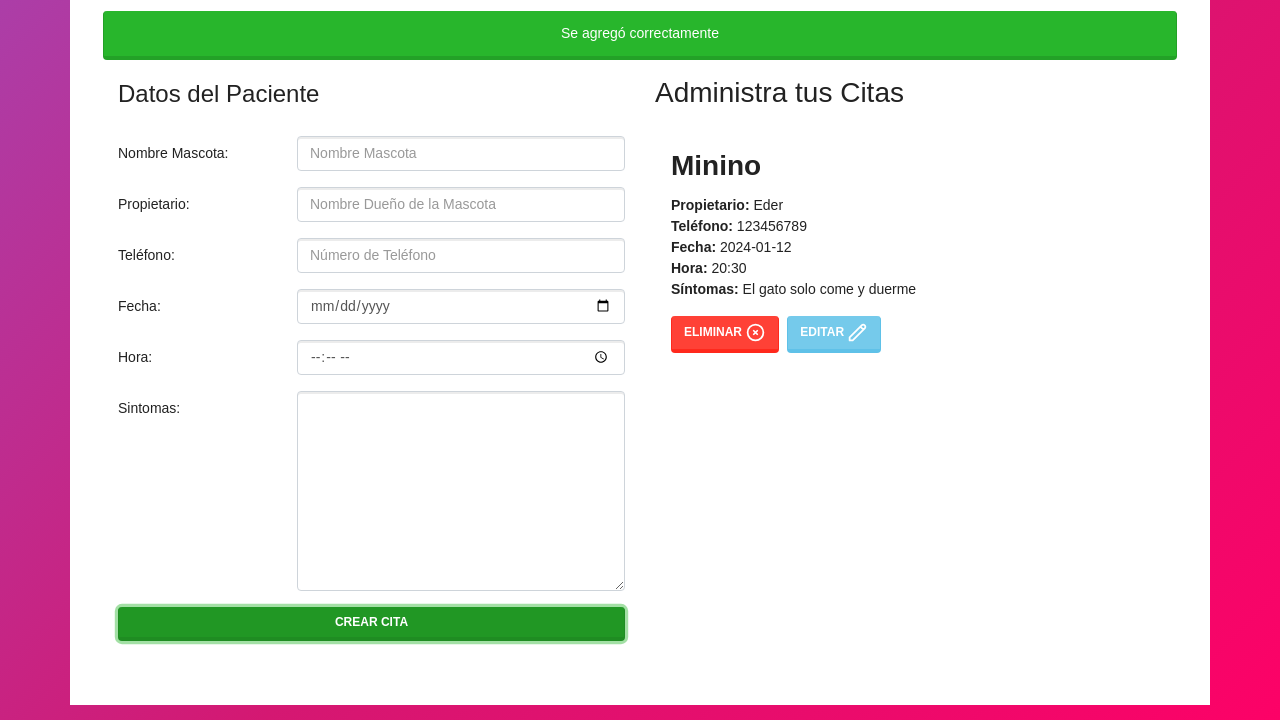
Test: Llenar los campos para una nueva cita y la elimina › Eliminar una cita
(page scrolled)
Click the button with test id "btn-eliminar" at [725, 335], box x1=671 y1=316 x2=779 y2=353
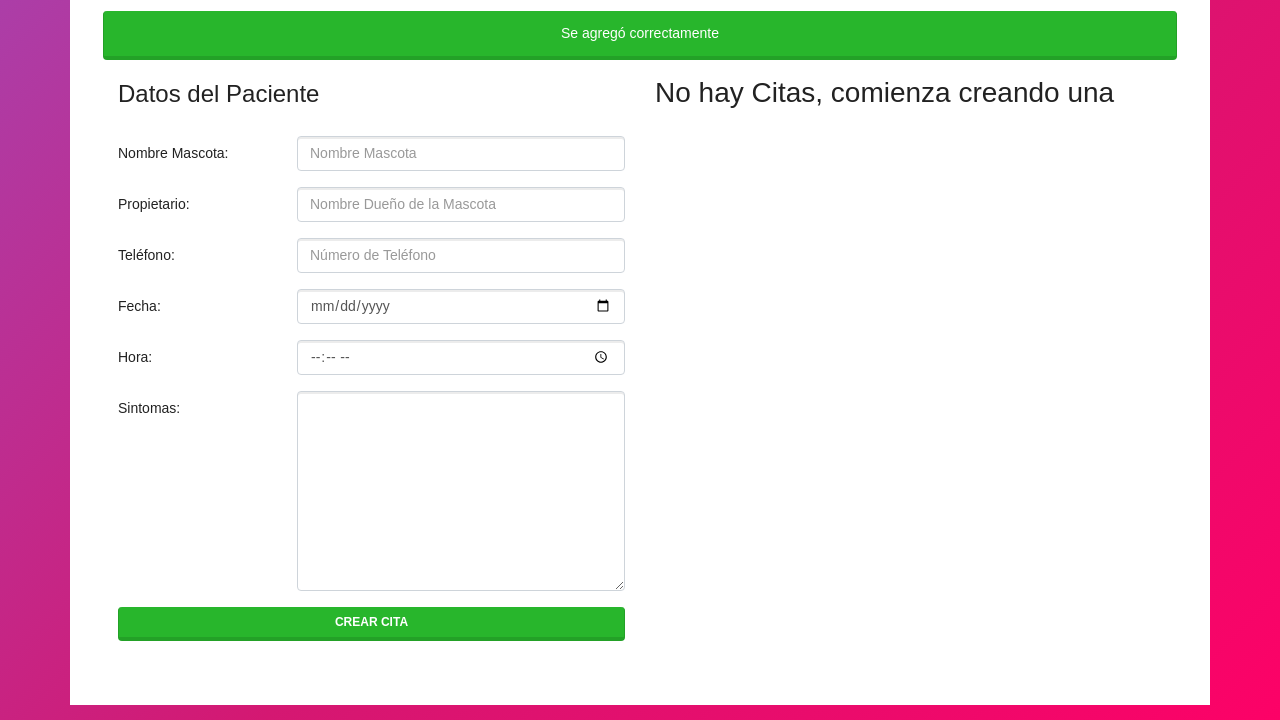
Expected: the heading with test id "citas-heading" reads "No hay Citas, comienza creando una", x1=655 y1=76 x2=1162 y2=110
